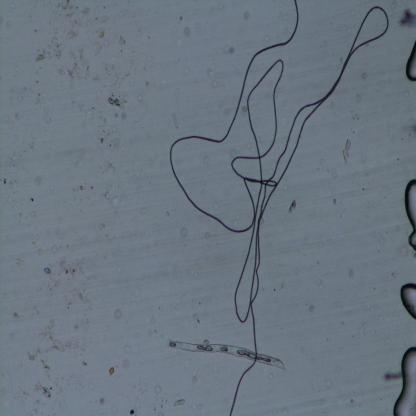Air bubble: (391, 346, 415, 416), (403, 176, 416, 255), (397, 280, 416, 323), (404, 39, 416, 83)
Background material: (27, 318, 68, 364), (50, 0, 91, 38), (58, 48, 92, 86), (94, 63, 129, 87), (97, 116, 120, 151), (37, 36, 64, 62), (102, 186, 131, 208), (15, 381, 42, 398), (61, 260, 88, 277), (92, 27, 108, 54), (40, 358, 56, 384), (107, 90, 127, 110), (73, 290, 92, 310), (399, 7, 416, 29), (26, 398, 46, 416), (206, 70, 222, 90), (400, 119, 416, 138), (66, 340, 86, 354), (384, 370, 404, 382), (342, 136, 350, 166), (220, 44, 236, 57), (35, 90, 46, 108), (348, 107, 360, 122), (40, 386, 52, 401), (174, 396, 186, 411), (288, 199, 298, 216), (0, 178, 17, 188), (170, 110, 178, 130), (176, 227, 188, 239), (74, 183, 88, 193), (41, 116, 55, 126), (33, 174, 43, 187), (93, 225, 107, 234), (153, 385, 164, 396), (200, 154, 210, 166), (42, 264, 53, 274), (113, 310, 124, 320), (136, 91, 144, 104), (230, 147, 238, 158), (122, 358, 129, 370), (182, 26, 191, 35), (120, 112, 129, 121), (118, 36, 126, 46), (360, 70, 368, 80), (12, 310, 20, 320), (124, 342, 129, 357), (140, 206, 148, 215), (308, 303, 315, 313), (81, 361, 89, 369), (244, 12, 251, 21), (33, 308, 40, 316), (51, 246, 58, 254), (259, 218, 265, 226), (348, 270, 354, 278), (108, 366, 114, 374), (98, 397, 104, 405), (145, 79, 150, 88), (241, 106, 247, 113), (332, 198, 337, 206), (129, 408, 134, 416), (178, 14, 183, 21), (166, 211, 170, 218), (350, 398, 354, 404), (30, 199, 34, 203)
Cellulose filter fibre: (167, 334, 287, 372)
Microfibre: (168, 0, 389, 416)
